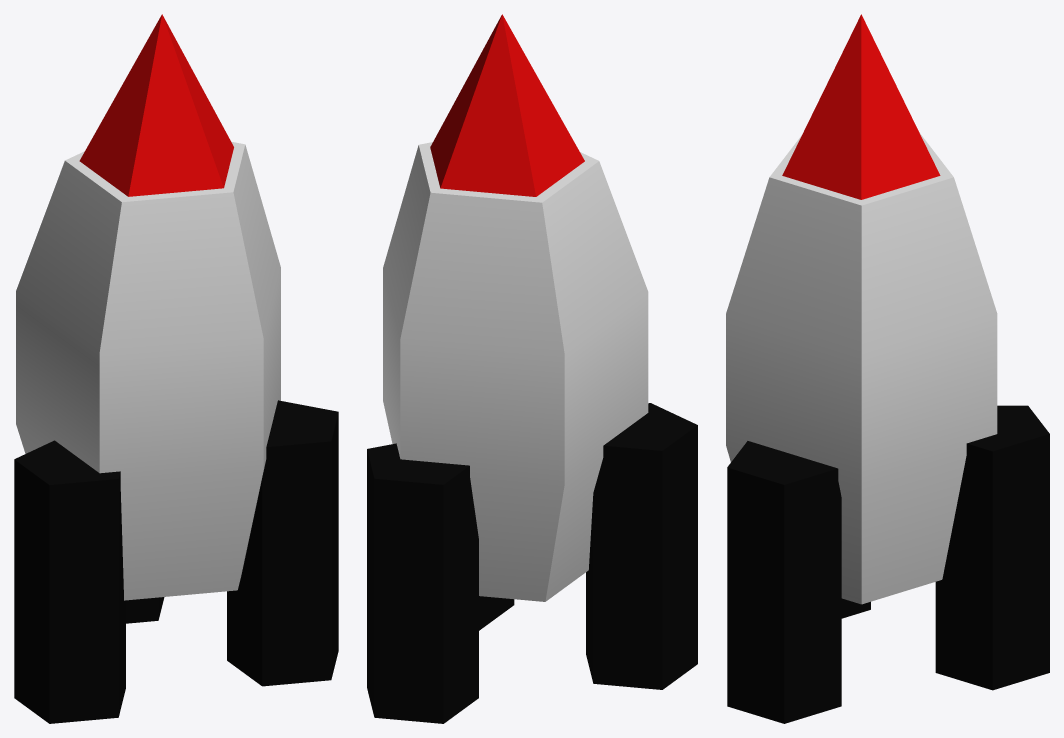
Rendered from AAAAAAA.fbx.
3 views of the same model, side by side, from view 1: azimuth 30°, elevation 25°; view 2: azimuth 150°, elevation 25°; view 3: azimuth 270°, elevation 25° (orthographic).
Parts seen in each view (by area): view 1: pCone2; view 2: pCone2; view 3: pCone2.
Boxes of the visible parts, box(x1,y1,x2,y2) form: pCone2: box(14, 14, 338, 723); pCone2: box(367, 14, 697, 723); pCone2: box(726, 14, 1049, 723).
Size of the model in its own units: 9.65 by 20.27 by 9.26.
